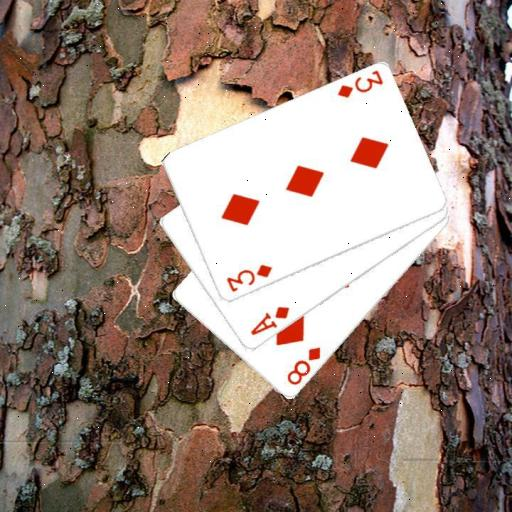3D: (223, 261, 274, 295), (334, 67, 385, 101)
8D: (284, 344, 323, 388)
AD: (247, 303, 291, 338)
